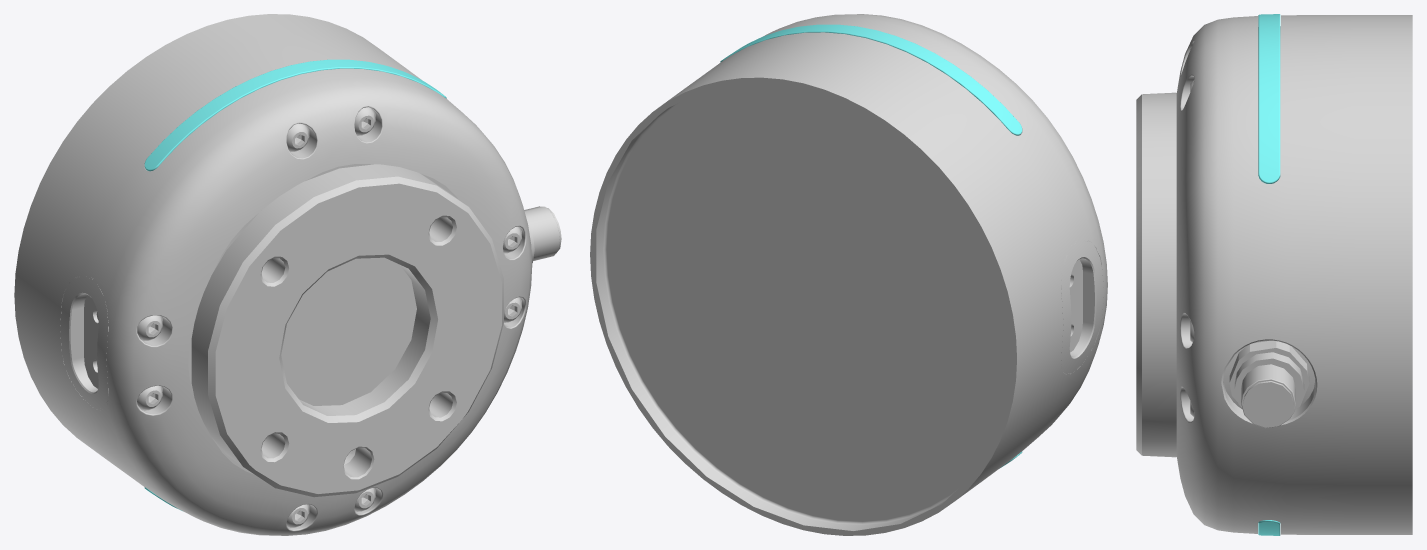
3 renders of one model, left to right at view 1: azimuth 30°, elevation 25°; view 2: azimuth 150°, elevation 25°; view 3: azimuth 270°, elevation 25°, orthographic. The views are drawn at different scales.
Parts seen in each view (by area): view 1: Link7_0, Link7_1; view 2: Link7_0, Link7_1; view 3: Link7_0, Link7_1, Link7_2.
Part boxes in pixels (<box>): Link7_0: <box>14,14,561,535</box>; Link7_1: <box>144,59,446,171</box>; Link7_0: <box>590,14,1107,535</box>; Link7_1: <box>720,24,1022,135</box>; Link7_0: <box>1136,15,1412,534</box>; Link7_1: <box>1258,14,1280,183</box>; Link7_2: <box>1258,520,1280,535</box>.
Size of the model in its own units: 0.0984 by 0.0902 by 0.0478.
